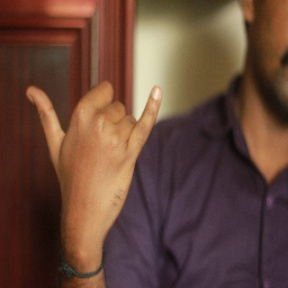J: (25, 67, 163, 211)
